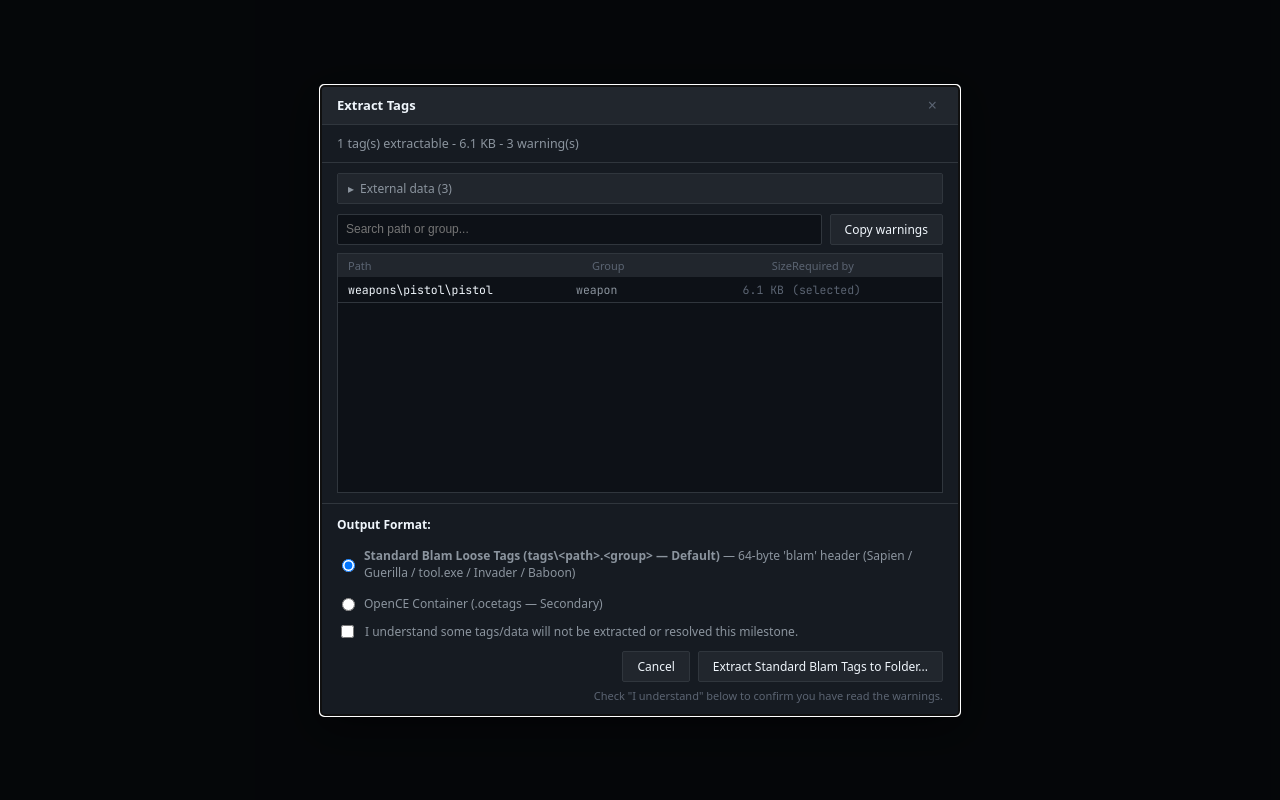
DependencyDialog › external sound/bitmap data: warnings appear under "External data"
Step 1. Click the button with test id "warning-group-toggle-external-data" → click(397, 188), box x1=338 y1=174 x2=942 y2=202
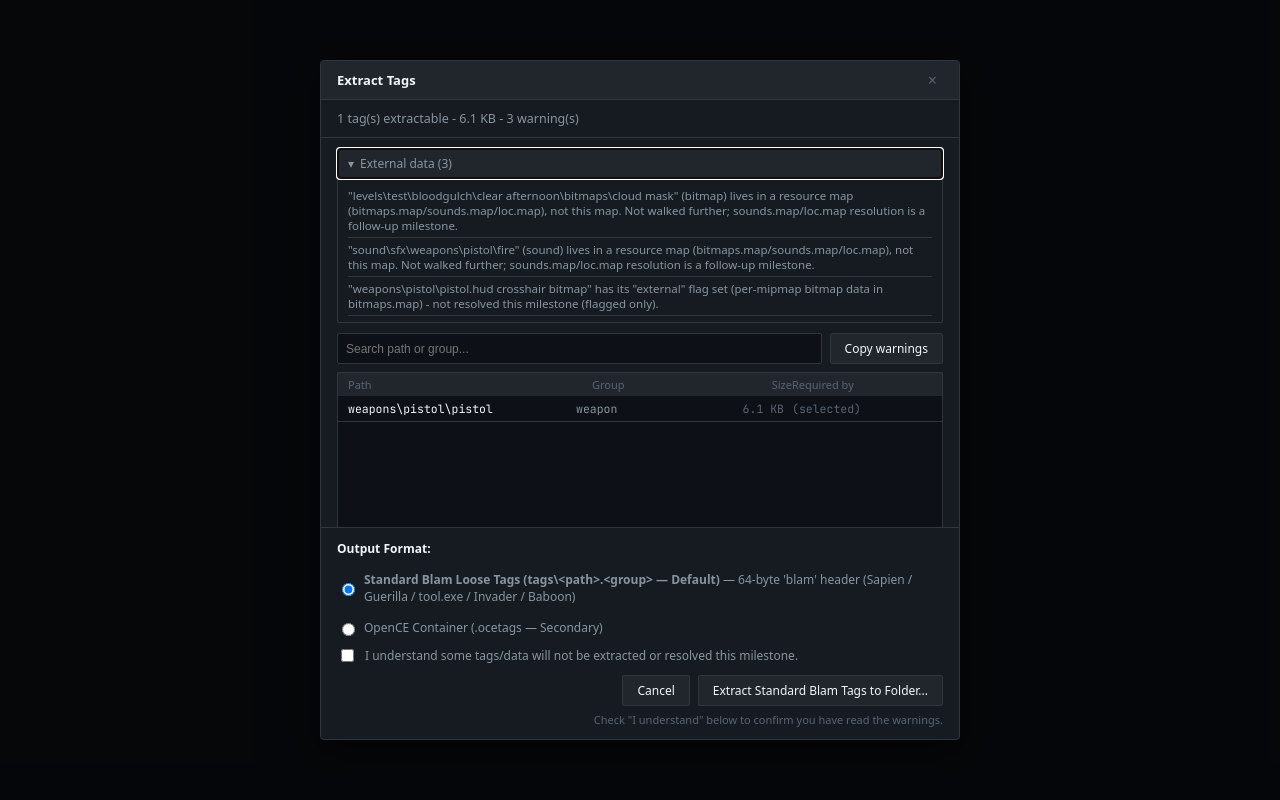
Now the element with test id "warning-group-items-external-data" shows "cloud mask", box x1=348 y1=188 x2=925 y2=233
